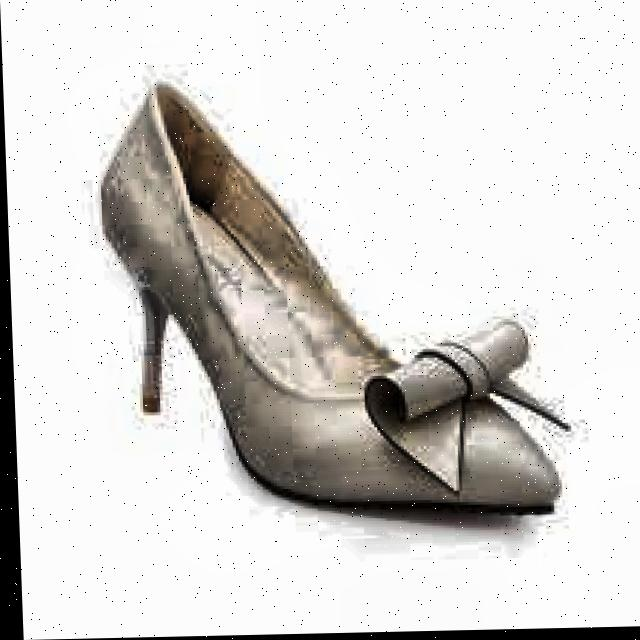shoes: (92, 62, 582, 534)
